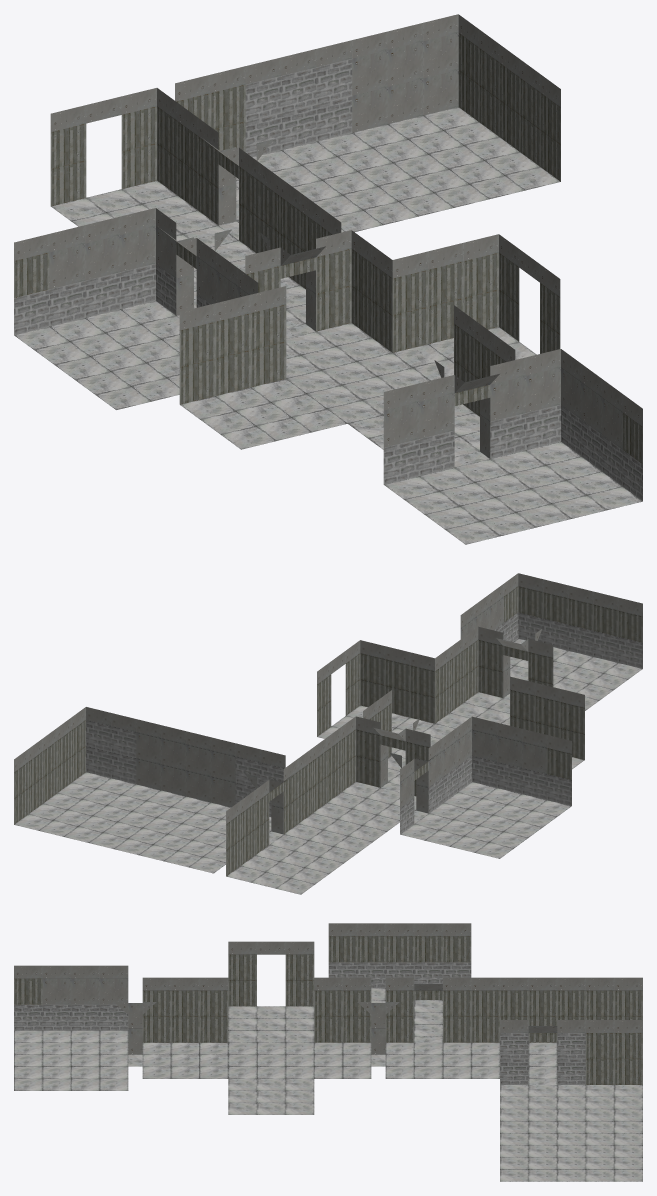
The model's file is lobby.glb.
The picture shows the model from 3 angles, top to bottom: view 1: azimuth 30°, elevation 25°; view 2: azimuth 150°, elevation 25°; view 3: azimuth 270°, elevation 25°; orthographic projection. The views are drawn at different scales.
Parts seen in each view (by area): view 1: Bedroom_Room_1-col, Сorridor_Room_2-col, Server_Room_1-col, Kitchen_Room_1-col, Сorridor_Room_1-col, Frame_Door_1-col, Frame_Door_2-col, Frame_Door_3-col, Frame_Door_4-col; view 2: Bedroom_Room_1-col, Сorridor_Room_2-col, Сorridor_Room_1-col, Kitchen_Room_1-col, Server_Room_1-col, Frame_Door_3-col, Frame_Door_2-col, Frame_Door_4-col, Frame_Door_1-col; view 3: Сorridor_Room_2-col, Bedroom_Room_1-col, Сorridor_Room_1-col, Server_Room_1-col, Kitchen_Room_1-col, Frame_Door_3-col, Frame_Door_1-col, Frame_Door_4-col, Frame_Door_2-col.
Boxes of the visible parts, box(x1,y1,x2,y2) form: Bedroom_Room_1-col: box(175, 14, 560, 232); Сorridor_Room_2-col: box(179, 230, 560, 457); Server_Room_1-col: box(383, 349, 642, 544); Kitchen_Room_1-col: box(14, 208, 258, 409); Сorridor_Room_1-col: box(50, 88, 341, 328); Frame_Door_1-col: box(434, 360, 499, 467); Frame_Door_2-col: box(204, 139, 273, 239); Frame_Door_3-col: box(260, 233, 325, 338); Frame_Door_4-col: box(161, 229, 231, 317); Bedroom_Room_1-col: box(14, 707, 285, 873); Сorridor_Room_2-col: box(317, 626, 584, 785); Сorridor_Room_1-col: box(226, 716, 430, 894); Kitchen_Room_1-col: box(400, 716, 571, 858); Server_Room_1-col: box(460, 573, 642, 710); Frame_Door_3-col: box(374, 718, 419, 792); Frame_Door_2-col: box(245, 773, 291, 844); Frame_Door_4-col: box(390, 753, 437, 823); Frame_Door_1-col: box(496, 628, 542, 699); Сorridor_Room_2-col: box(142, 941, 371, 1114); Bedroom_Room_1-col: box(500, 1020, 642, 1181); Сorridor_Room_1-col: box(385, 977, 642, 1078); Server_Room_1-col: box(14, 965, 128, 1090); Kitchen_Room_1-col: box(328, 923, 471, 1036); Frame_Door_3-col: box(357, 1002, 399, 1066); Frame_Door_1-col: box(114, 1002, 156, 1066); Frame_Door_4-col: box(414, 984, 442, 1042); Frame_Door_2-col: box(528, 1026, 557, 1084).
Bounding box in the file's own units: 25.6 × 4 × 35.2.
1 material, 1 textured.
